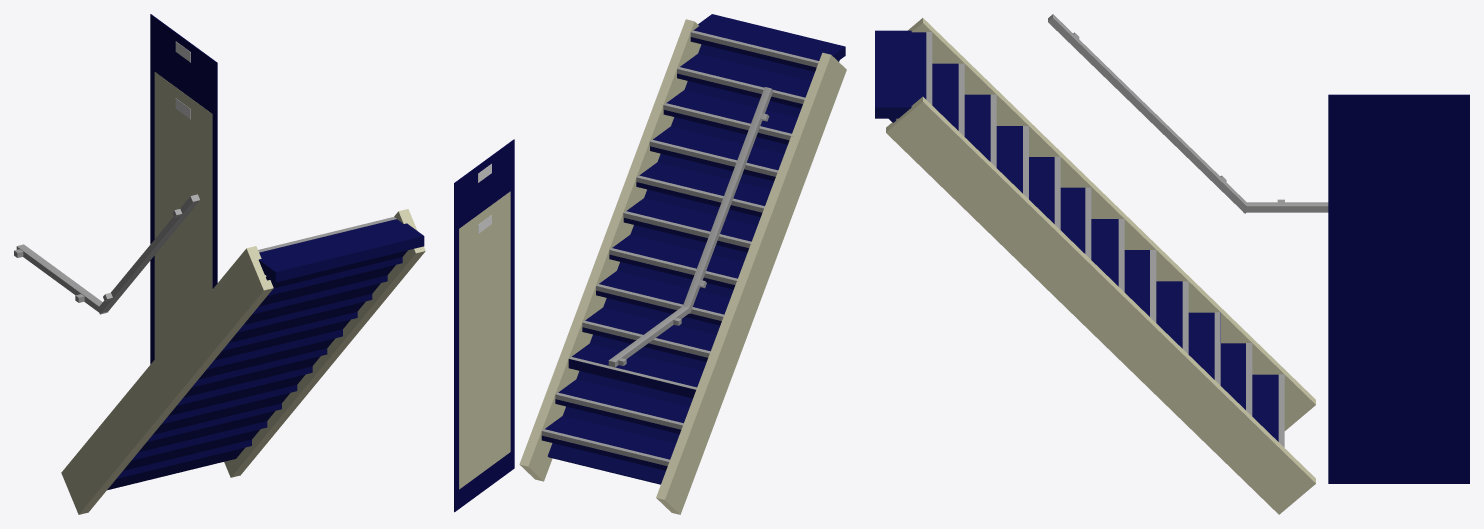
The model's file is Escaleras.fbx.
3 renders of one model, left to right at view 1: azimuth 30°, elevation 25°; view 2: azimuth 150°, elevation 25°; view 3: azimuth 270°, elevation 25°, orthographic. The views are drawn at different scales.
Visible parts, largest first — view 1: ESCALERAS Y BAÑO; view 2: ESCALERAS Y BAÑO; view 3: ESCALERAS Y BAÑO.
Boxes of the visible parts, x1,y1,x2,y2 form: ESCALERAS Y BAÑO: [14, 14, 425, 514]; ESCALERAS Y BAÑO: [454, 14, 846, 514]; ESCALERAS Y BAÑO: [875, 14, 1469, 514].
Size of the model in its own units: 98.63 by 229 by 294.
